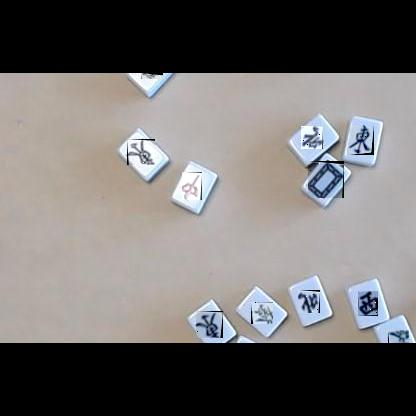1z: (196, 311, 223, 338), (127, 139, 155, 165), (350, 126, 374, 155)
3z: (358, 291, 378, 316)
4z: (301, 126, 323, 149), (298, 290, 320, 313)
5z: (308, 161, 344, 198)
6z: (251, 302, 273, 324), (388, 330, 409, 343), (141, 73, 163, 79)
7z: (182, 172, 202, 200)
